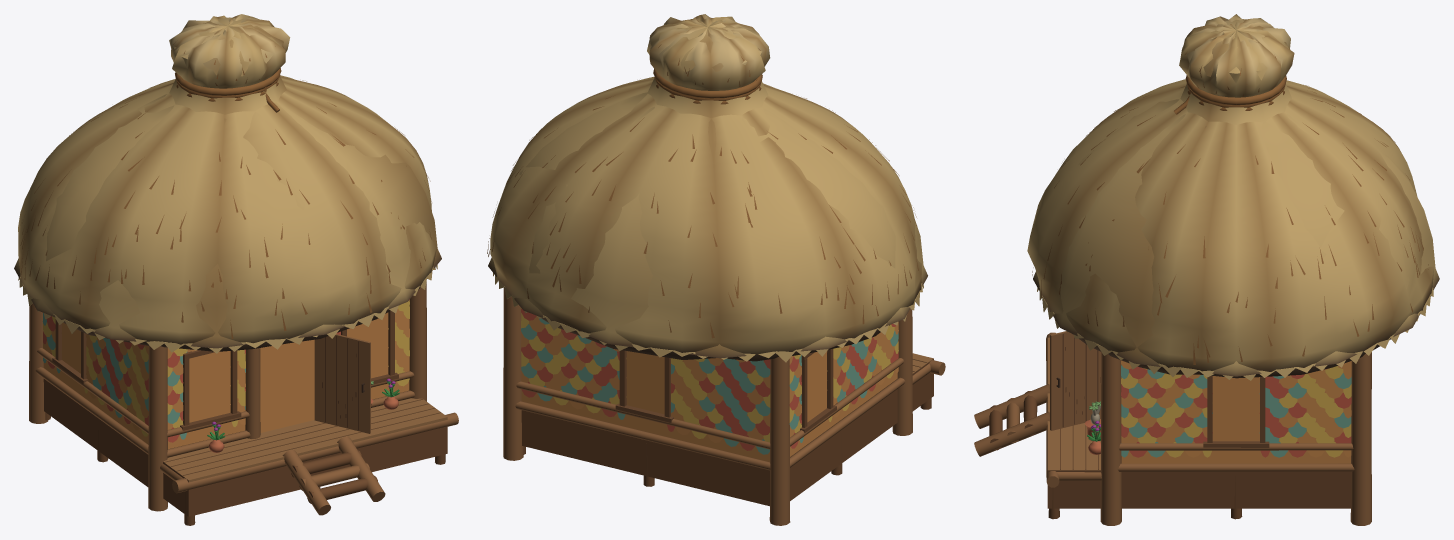
The model's file is hut_warm.glb.
3 views of the same model, side by side, from view 1: azimuth 30°, elevation 25°; view 2: azimuth 150°, elevation 25°; view 3: azimuth 270°, elevation 25° (orthographic). The views are drawn at different scales.
Parts seen in each view (by area): view 1: hut_warm, hut_warm_far; view 2: hut_warm, hut_warm_far; view 3: hut_warm, hut_warm_far.
Boxes of the visible parts, x1=… form: hut_warm: x1=18, y1=14, x2=458, y2=525; hut_warm_far: x1=14, y1=17, x2=447, y2=516; hut_warm: x1=487, y1=14, x2=945, y2=525; hut_warm_far: x1=488, y1=18, x2=933, y2=506; hut_warm: x1=974, y1=14, x2=1433, y2=525; hut_warm_far: x1=1033, y1=19, x2=1439, y2=508.
Bounding box in the file's own units: 8.73 × 8.9 × 8.79.
